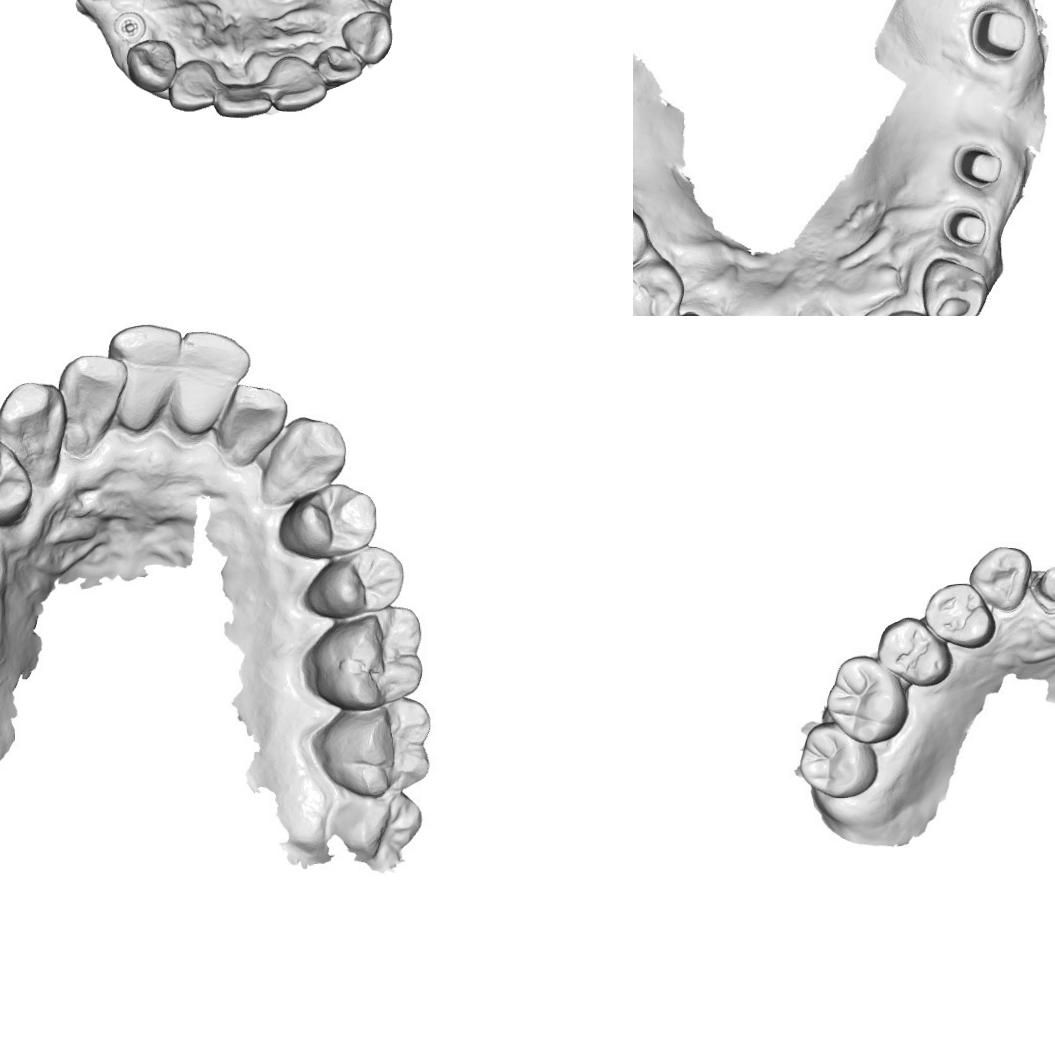abutment: (965, 0, 1032, 69), (949, 131, 1011, 204), (941, 202, 991, 254)
canine: (264, 412, 348, 504), (0, 380, 69, 488), (968, 545, 1032, 615), (922, 257, 991, 316), (339, 10, 394, 66), (126, 37, 178, 93)
crown: (1034, 565, 1055, 612)
implant_plus: (110, 8, 148, 46)
incisor: (176, 329, 247, 441), (55, 352, 128, 458), (110, 322, 180, 431), (220, 381, 286, 473), (266, 54, 328, 112), (167, 58, 216, 112), (316, 45, 364, 86), (214, 84, 271, 118)
molar: (316, 690, 432, 802), (310, 606, 426, 708), (822, 653, 908, 744), (798, 720, 880, 800)
premolar: (306, 542, 406, 625), (284, 481, 380, 565), (875, 615, 952, 688), (924, 580, 996, 650), (633, 251, 679, 316), (0, 434, 33, 520)
